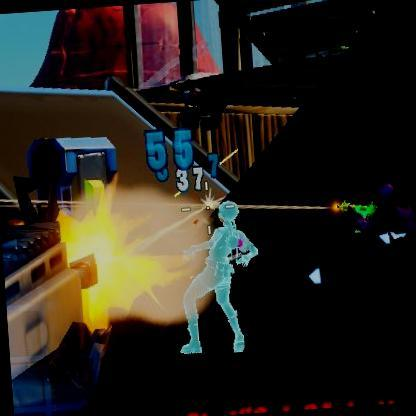person: (169, 199, 266, 356), (360, 180, 416, 340)
